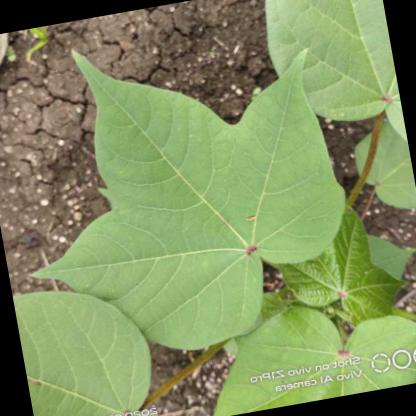cotton: (0, 7, 367, 374)
